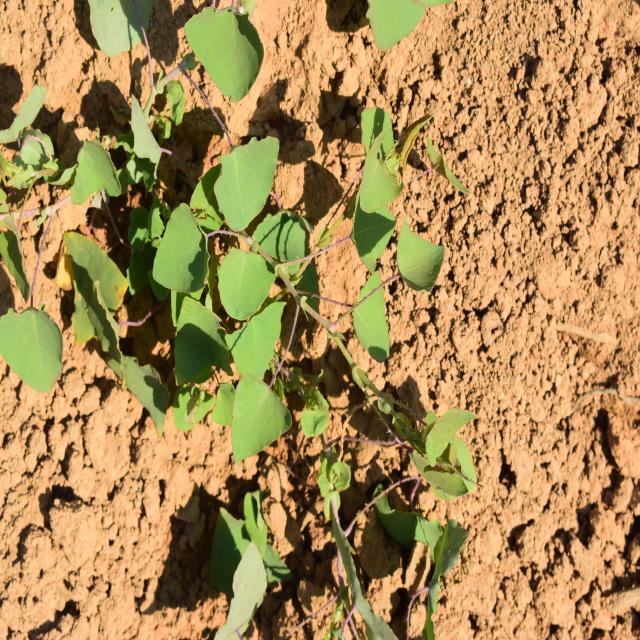Asiatic_Smartweed: (175, 113, 427, 449), (170, 0, 271, 116), (0, 295, 73, 393)
